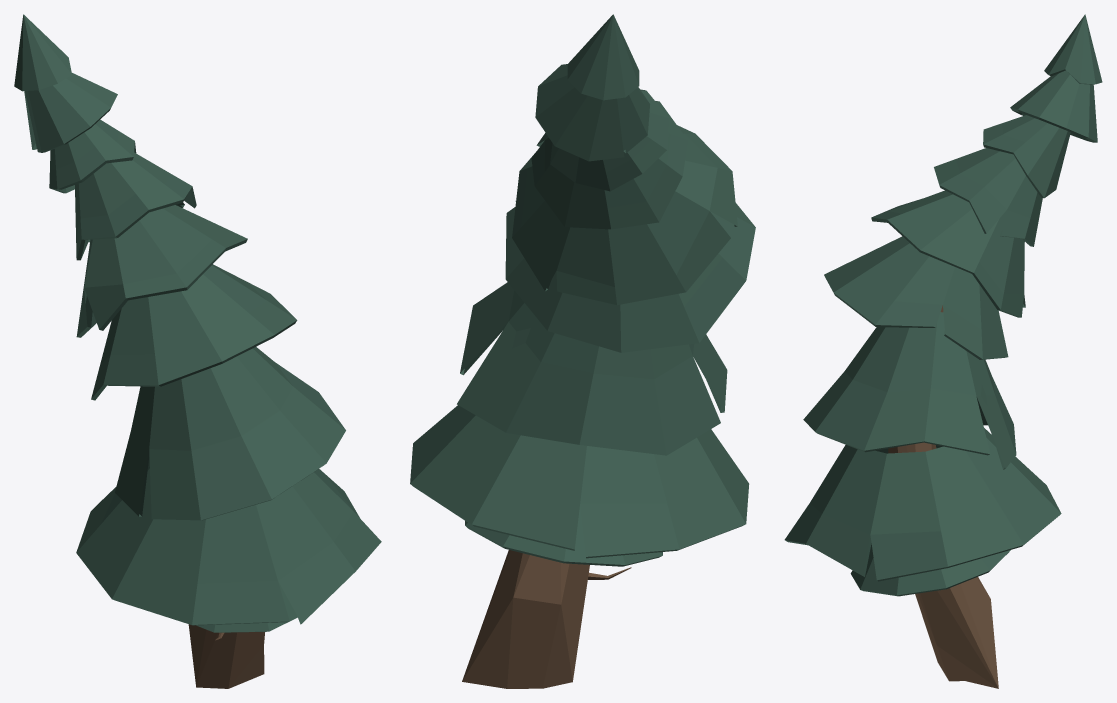
The model's file is tree4.glb.
3 renders of one model, left to right at view 1: azimuth 30°, elevation 25°; view 2: azimuth 150°, elevation 25°; view 3: azimuth 270°, elevation 25°, orthographic. The views are drawn at different scales.
Parts seen in each view (by area): view 1: Cone.430; view 2: Cone.430; view 3: Cone.430.
Boxes of the visible parts, left/top/right/bottom form: Cone.430: left=14, top=14, right=381, bottom=688; Cone.430: left=410, top=14, right=755, bottom=688; Cone.430: left=784, top=14, right=1102, bottom=688.
Bounding box in the file's own units: 2.42 × 5.68 × 2.75.
